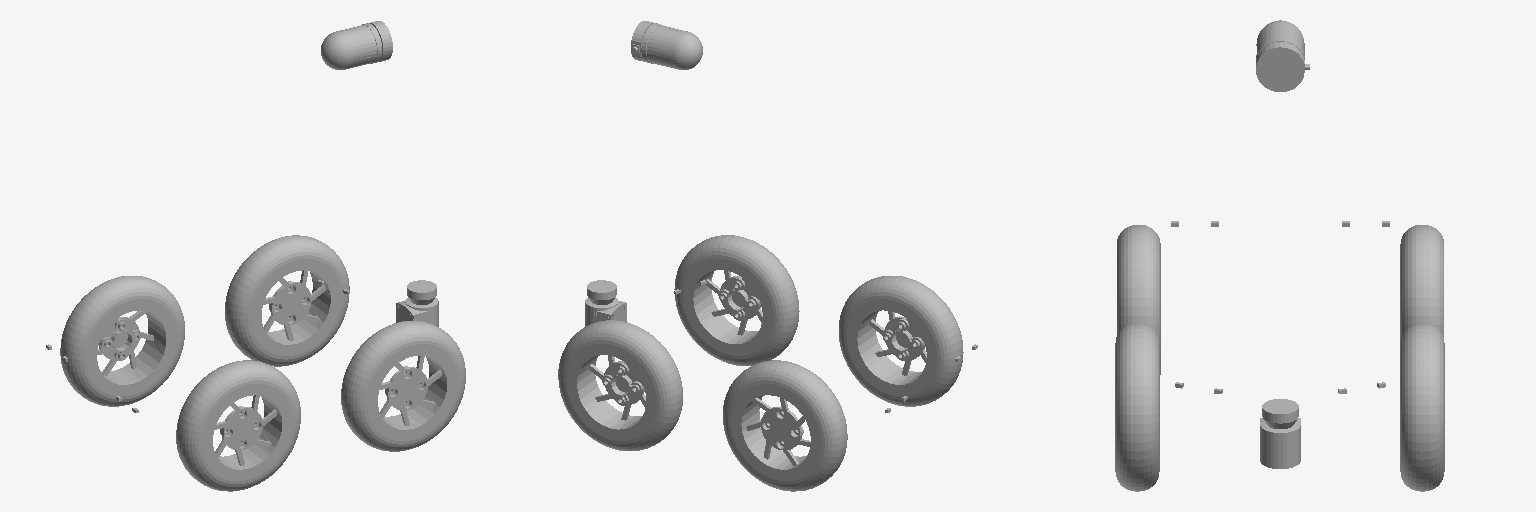
URDF robot description (af):
<robot
  name="af">

  <link
    name="base_footprint">
    <visual>
      <origin
        xyz="0 0 0.2984495120400078"
        rpy="1.5707963267949 0 1.5707963267949" />
      <geometry>
        <mesh
          filename="package://af_bringup/meshes/base_footprint.STL" />
      </geometry>
      <material
        name="">
        <color
          rgba="0.752941176470588 0.752941176470588 0.752941176470588 1" />
      </material>
    </visual>
  </link>



  <link
    name="base_link">
    <visual>
      <origin
        xyz="0 0 0"
        rpy="1.5707963267949 0 1.5707963267949" />
      <geometry>
        <mesh
          filename="package://af_bringup/meshes/base_footprint.STL" />
      </geometry>
      <material
        name="">
        <color
          rgba="0.752941176470588 0.752941176470588 0.752941176470588 1" />
      </material>
    </visual>
  </link>
  <joint
    name="base_link_joint"
    type="fixed">
    <origin
      xyz="0 0 0.2984495120400078"
      rpy="0 0 0" />
    <parent
      link="base_footprint" />
    <child
      link="base_link" />
    <axis
      xyz="0 0 0" />
  </joint>

<!--        rpy="0 0 1.5707963267949" />-->
  <link
    name="laser">
    <visual>
      <origin
        xyz="0 0 0"
        rpy="0 0 1.5707963267949" />
      <geometry>
        <mesh
          filename="package://af_bringup/meshes/laser.STL" />
      </geometry>
      <material
        name="">
        <color
          rgba="0.752941176470588 0.752941176470588 0.752941176470588 1" />
      </material>
    </visual>
  </link>
  <joint
    name="laser_joint"
    type="fixed">
    <origin
      xyz="0.63779 0 0.040"
      rpy="0 0 0" />
    <parent
      link="base_link" />
    <child
      link="laser" />
    <axis
      xyz="0 0 0" />
  </joint>



  <link
    name="wheel1">
    <visual>
      <origin
        xyz="0 0 0"
        rpy="1.5707963267949 0 0" />
      <geometry>
        <mesh
          filename="package://af_bringup/meshes/wheel1.STL" />
      </geometry>
      <material
        name="">
        <color
          rgba="0.752941176470588 0.752941176470588 0.752941176470588 1" />
      </material>
    </visual>
  </link>
  <joint
    name="base_wheel1"
    type="fixed">
    <origin
      xyz="0.36689 0.353838628838196 -0.0884495120400078"
      rpy="0 0 0" />
    <parent
      link="base_link" />
    <child
      link="wheel1" />
    <axis
      xyz="0 0 0" />
  </joint>



  <link
    name="wheel2">
    <visual>
      <origin
        xyz="0 0 0"
        rpy="1.5707963267949 0 0" />
      <geometry>
        <mesh
          filename="package://af_bringup/meshes/wheel2.STL" />
      </geometry>
      <material
        name="">
        <color
          rgba="0.752941176470588 0.752941176470588 0.752941176470588 1" />
      </material>
    </visual>
  </link>
  <joint
    name="base_wheel2"
    type="fixed">
    <origin
      xyz="-0.21311 0.353805715763312 -0.0884495120400076"
      rpy="0 0 0" />
    <parent
      link="base_link" />
    <child
      link="wheel2" />
    <axis
      xyz="0 0 0" />
  </joint>



  <link
    name="wheel3">
    <visual>
      <origin
        xyz="0 0 0"
        rpy="-1.5707963267949 0 0" />
      <geometry>
        <mesh
          filename="package://af_bringup/meshes/wheel3.STL" />
      </geometry>
      <material
        name="">
        <color
          rgba="0.752941176470588 0.752941176470588 0.752941176470588 1" />
      </material>
    </visual>
  </link>
  <joint
    name="base_wheel3"
    type="fixed">
    <origin
      xyz="0.36689 -0.356514177677096 -0.0884495120400078"
      rpy="0 0 0" />
    <parent
      link="base_link" />
    <child
      link="wheel3" />
    <axis
      xyz="0 0 0" />
  </joint>



  <link
    name="wheel4">
    <visual>
      <origin
        xyz="0 0 0"
        rpy="-1.5707963267949 0 0" />
      <geometry>
        <mesh
          filename="package://af_bringup/meshes/wheel4.STL" />
      </geometry>
      <material
        name="">
        <color
          rgba="0.752941176470588 0.752941176470588 0.752941176470588 1" />
      </material>
    </visual>
  </link>
  <joint
    name="base_wheel4"
    type="fixed">
    <origin
      xyz="-0.21311 -0.353805715763312 -0.0884495120400078"
      rpy="0 0 0" />
    <parent
      link="base_link" />
    <child
      link="wheel4" />
    <axis
      xyz="0 0 0" />
  </joint>



  <link
    name="Stereo">
    <visual>
      <origin
        xyz="0 0 0"
        rpy="0 1.57 0" />
      <geometry>
        <mesh
          filename="package://af_bringup/meshes/camera.STL" />
      </geometry>
      <material
        name="">
        <color
          rgba="0.752941176470588 0.752941176470588 0.752941176470588 1" />
      </material>
    </visual>
  </link>
  <joint
    name="base_camera"
    type="fixed">
    <origin
      xyz="0.5 0 0.902"
      rpy="0 0 0" />
    <parent
      link="base_link" />
    <child
      link="Stereo" />
    <axis
      xyz="0 0 0" />
  </joint>

  <link
    name="range1">
    <visual>
      <origin
        xyz="0 0 0"
        rpy="0 0 0" />
      <geometry>
        <box size="0.01 0.02 0.01"/>
      </geometry>
      <material
        name="">
        <color
          rgba="0.752941176470588 0.752941176470588 0.752941176470588 1" />
      </material>
    </visual>
  </link>
  <joint
    name="base_range1"
    type="fixed">
    <origin
      xyz=" 0.4265 -0.25289 0.0"
      rpy="0 0 -0.436332313" />
    <parent
      link="base_link" />
    <child
      link="range1" />
    <axis
      xyz="0 0 0" />
  </joint>
  
  <link
    name="range2">
    <visual>
      <origin
        xyz="0 0 0"
        rpy="0 0 0" />
      <geometry>
        <box size="0.01 0.02 0.01"/>
      </geometry>
      <material
        name="">
        <color
          rgba="0.752941176470588 0.752941176470588 0.752941176470588 1" />
      </material>
    </visual>
  </link>
  <joint
    name="base_range2"
    type="fixed">
    <origin
      xyz="0.462 -0.15535 0.0"
      rpy="0 0 -0.2617993878" />
    <parent
      link="base_link" />
    <child
      link="range2" />
    <axis
      xyz="0 0 0" />
  </joint>
  
  <link
    name="range3">
    <visual>
      <origin
        xyz="0 0 0"
        rpy="0 0 0" />
      <geometry>
        <box size="0.01 0.02 0.01"/>
      </geometry>
      <material
        name="">
        <color
          rgba="0.752941176470588 0.752941176470588 0.752941176470588 1" />
      </material>
    </visual>
  </link>
  <joint
    name="base_range3"
    type="fixed">
    <origin
      xyz="0.462 0.15535 0.0"
      rpy="0 0 0.2617993878" />
    <parent
      link="base_link" />
    <child
      link="range3" />
    <axis
      xyz="0 0 0" />
  </joint>
  
  <link
    name="range4">
    <visual>
      <origin
        xyz="0 0 0"
        rpy="0 0 0" />
      <geometry>
        <box size="0.01 0.02 0.01"/>
      </geometry>
      <material
        name="">
        <color
          rgba="0.752941176470588 0.752941176470588 0.752941176470588 1" />
      </material>
    </visual>
  </link>
  <joint
    name="base_range4"
    type="fixed">
    <origin
      xyz="0.4265 0.25289 0.0"
      rpy="0 0 0.436332313" />
    <parent
      link="base_link" />
    <child
      link="range4" />
    <axis
      xyz="0 0 0" />
  </joint>
  
  <link
    name="range5">
    <visual>
      <origin
        xyz="0 0 0"
        rpy="0 0 0" />
      <geometry>
        <box size="0.01 0.02 0.01"/>
      </geometry>
      <material
        name="">
        <color
          rgba="0.752941176470588 0.752941176470588 0.752941176470588 1" />
      </material>
    </visual>
  </link>
  <joint
    name="base_range5"
    type="fixed">
    <origin
      xyz="-0.525 0.264 0.0"
      rpy="0 0 3.1415926" />
    <parent
      link="base_link" />
    <child
      link="range5" />
    <axis
      xyz="0 0 0" />
  </joint>

  <link
    name="range6">
    <visual>
      <origin
        xyz="0 0 0"
        rpy="0 0 0" />
      <geometry>
        <box size="0.01 0.02 0.01"/>
      </geometry>
      <material
        name="">
        <color
          rgba="0.752941176470588 0.752941176470588 0.752941176470588 1" />
      </material>
    </visual>
  </link>
  <joint
    name="base_range6"
    type="fixed">
    <origin
      xyz="-0.525 0.164 0.0"
      rpy="0 0 3.1415926" />
    <parent
      link="base_link" />
    <child
      link="range6" />
    <axis
      xyz="0 0 0" />
  </joint>
  <link
    name="range7">
    <visual>
      <origin
        xyz="0 0 0"
        rpy="0 0 0" />
      <geometry>
        <box size="0.01 0.02 0.01"/>
      </geometry>
      <material
        name="">
        <color
          rgba="0.752941176470588 0.752941176470588 0.752941176470588 1" />
      </material>
    </visual>
  </link>
  <joint
    name="base_range7"
    type="fixed">
    <origin
      xyz="-0.525 -0.164 0.0"
      rpy="0 0 3.1415926" />
    <parent
      link="base_link" />
    <child
      link="range7" />
    <axis
      xyz="0 0 0" />
  </joint>

  <link
    name="range8">
    <visual>
      <origin
        xyz="0 0 0"
        rpy="0 0 0" />
      <geometry>
        <box size="0.01 0.02 0.01"/>
      </geometry>
      <material
        name="">
        <color
          rgba="0.752941176470588 0.752941176470588 0.752941176470588 1" />
      </material>
    </visual>
  </link>
  <joint
    name="base_range8"
    type="fixed">
    <origin
      xyz="-0.525 -0.264 0.0"
      rpy="0 0 3.1415926" />
    <parent
      link="base_link" />
    <child
      link="range8" />
    <axis
      xyz="0 0 0" />
  </joint>


</robot>

--- What the picture shows (computed from the rendered views, not written in the file) ---
The picture shows the robot from 3 angles, left to right: view 1: azimuth 30°, elevation 25°; view 2: azimuth 150°, elevation 25°; view 3: azimuth 270°, elevation 25°; orthographic projection.
Robot: af — 16 links, 15 joints (15 fixed); root link base_footprint; default pose: all joints at 0.
Visible links, largest first — view 1: wheel4, wheel3, wheel2, wheel1, Stereo, laser; view 2: wheel1, wheel2, wheel4, wheel3, Stereo, laser; view 3: wheel1, wheel3, wheel4, wheel2, Stereo, laser.
Link boxes in pixels (left/top/right/bottom): wheel4: left=176, top=360, right=300, bottom=491; wheel3: left=341, top=321, right=465, bottom=451; wheel2: left=60, top=276, right=184, bottom=406; wheel1: left=225, top=235, right=349, bottom=366; Stereo: left=321, top=21, right=392, bottom=69; laser: left=396, top=280, right=438, bottom=326; wheel1: left=558, top=320, right=682, bottom=450; wheel2: left=723, top=360, right=847, bottom=491; wheel4: left=839, top=276, right=963, bottom=406; wheel3: left=674, top=235, right=799, bottom=365; Stereo: left=631, top=21, right=702, bottom=69; laser: left=585, top=280, right=626, bottom=326; wheel1: left=1400, top=323, right=1444, bottom=491; wheel3: left=1115, top=323, right=1159, bottom=491; wheel4: left=1117, top=225, right=1160, bottom=374; wheel2: left=1400, top=225, right=1443, bottom=341; Stereo: left=1256, top=20, right=1309, bottom=91; laser: left=1260, top=399, right=1300, bottom=468.
Size in the robot's own frame: 1.22 by 0.8204 by 1.26 metres.
Meshes: 7 distinct files referenced, 6 mesh visuals loaded (6 binary STL); not drawn: 2 (reference not matched to a file when rendering).
